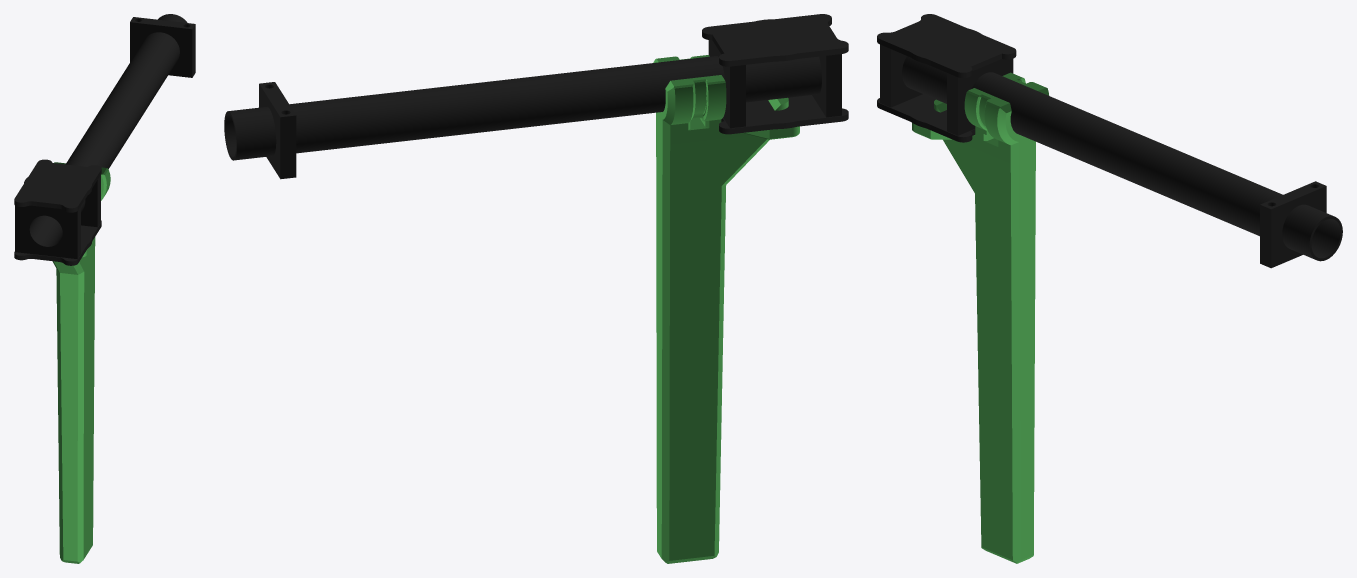
File: x500_arm.dae
3 views of the same model, side by side, from view 1: azimuth 30°, elevation 25°; view 2: azimuth 150°, elevation 25°; view 3: azimuth 270°, elevation 25° (orthographic). The views are drawn at different scales.
Parts seen in each view (by area): view 1: Object014; view 2: Object014; view 3: Object014.
Part boxes in pixels (<box>): Object014: <box>14,14,195,563</box>; Object014: <box>224,14,848,563</box>; Object014: <box>877,14,1342,563</box>.
Size of the model in its own units: 0.1574 by 0.1574 by 0.181.
